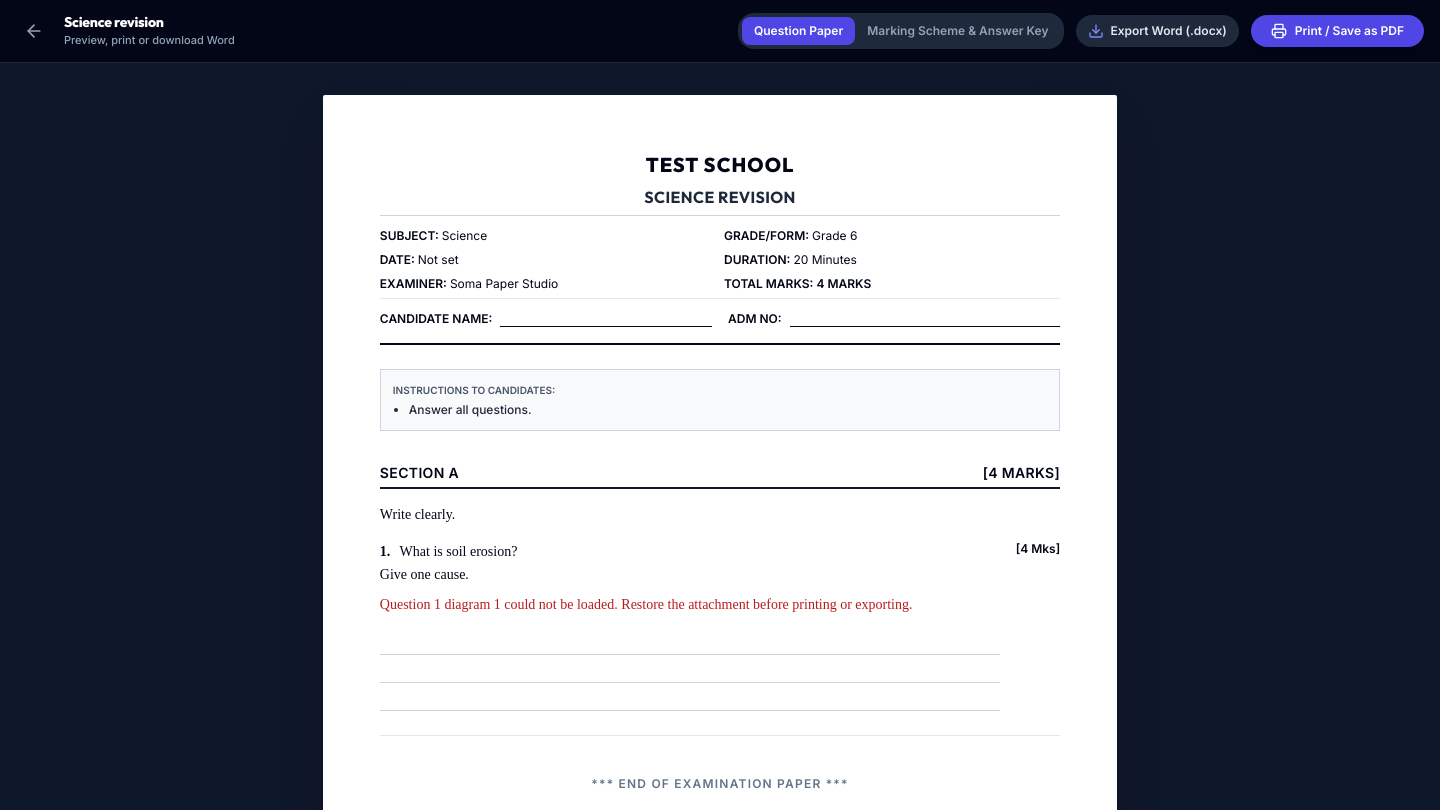
shows attached diagrams and prevents printing when one fails to load
This screenshot has width=1440, height=810.
Expected: the message shows "could not be loaded", [501,597,912,612]
Click the button "Print / Save as PDF".
click(1337, 31)  # box [1251,15,1424,47]
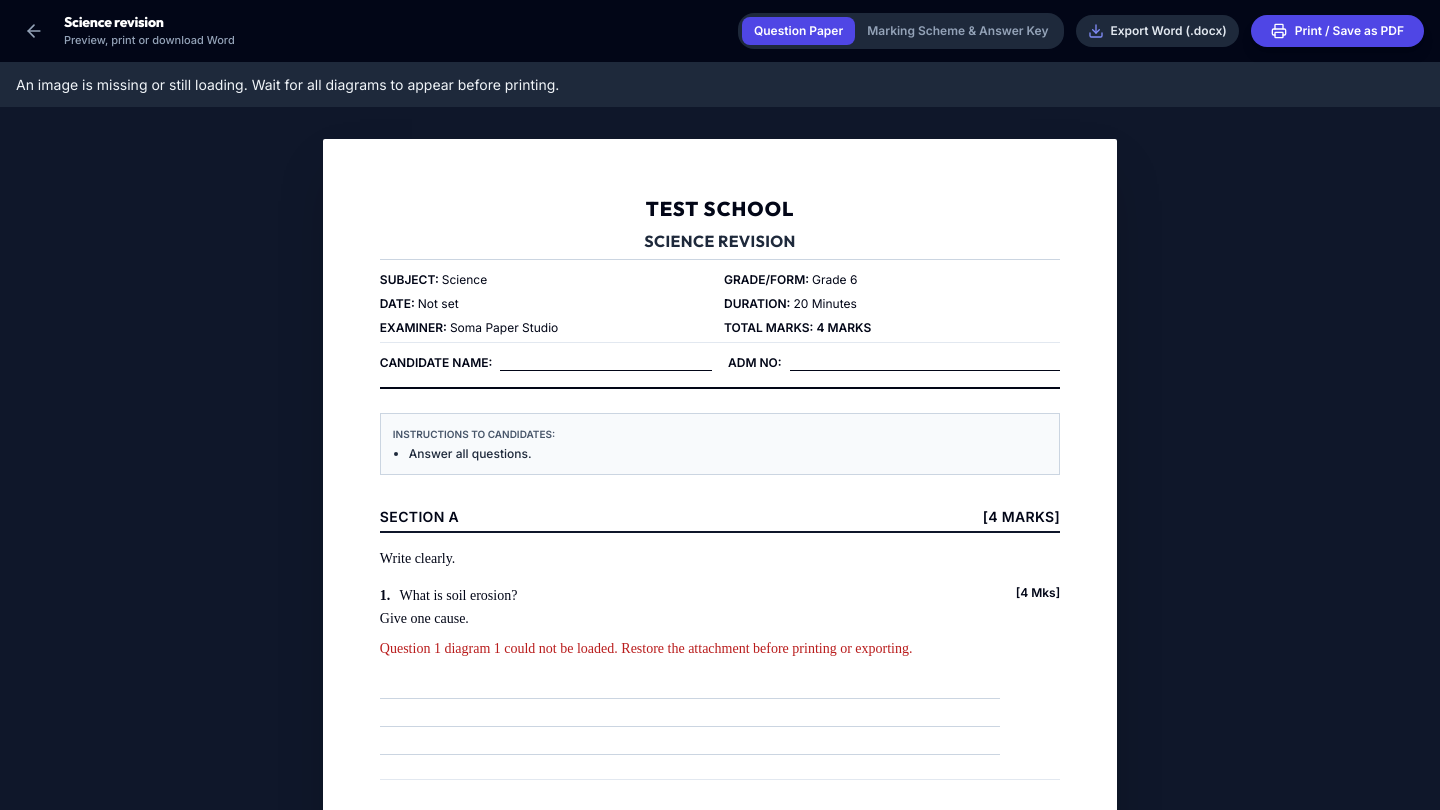
Expected: the 1st message shows "An image is missing", [16,76,559,93]
